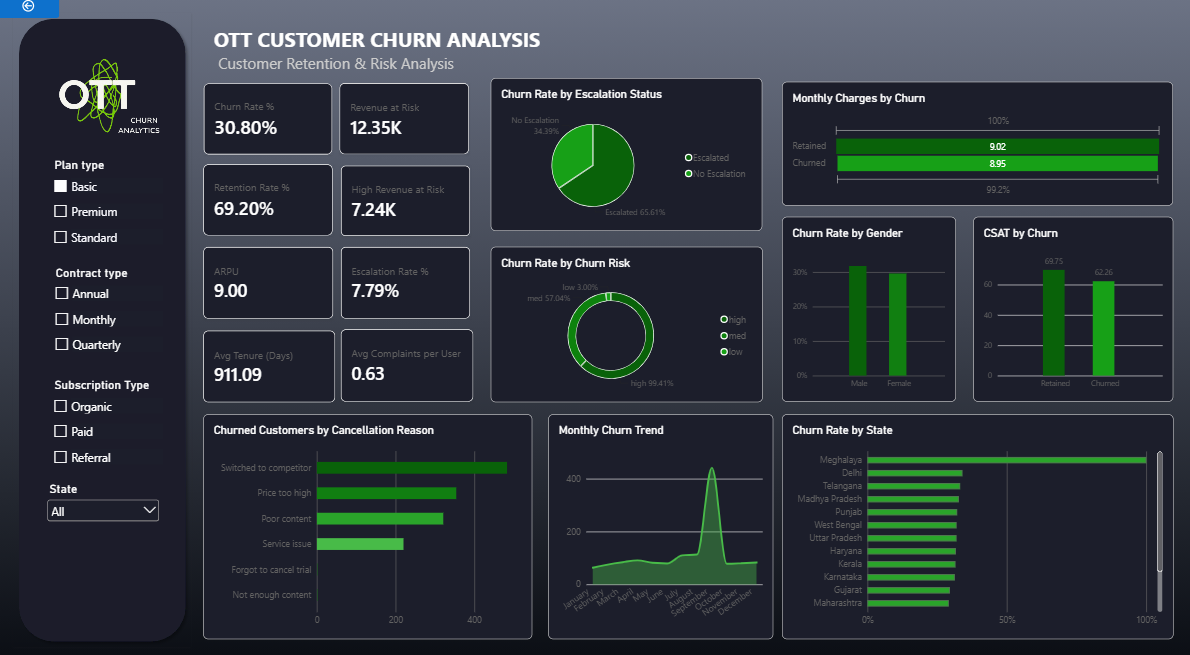

The dashboard page shown, as its layout file describes it:
{"tool":"powerbi","page":{"name":"Page 1","canvas":[1920,1080],"ordinal":0},"visuals":[{"type":"shape","box":[26.7,31.7,285,1015],"z":0},{"type":"cardVisual","fields":{"Data":["db_customer.Churn Rate %"]},"box":[330,144,207.5,115],"z":2000},{"type":"cardVisual","fields":{"Data":["db_customer.Avg Tenure (Days)"]},"box":[330,540,211.4,115.7],"z":3000},{"type":"cardVisual","fields":{"Data":["db_customer.ARPU"]},"box":[330,406,208.6,115.7],"z":4000},{"type":"cardVisual","fields":{"Data":["db_customer.Escalation Rate %"]},"box":[550,405.6,207.8,115.6],"z":5000},{"type":"cardVisual","fields":{"Data":["db_customer.Revenue at Risk"]},"box":[548.9,144.4,207.8,114.4],"z":6000},{"type":"cardVisual","title":"High Risk Revenue","fields":{"Data":["db_customer.High Risk Revenue at Risk"]},"box":[550,275.6,207.8,113.3],"z":7000},{"type":"cardVisual","fields":{"Data":["db_customer.Retention Rate %"]},"box":[330,274,207.8,114.4],"z":8000},{"type":"cardVisual","fields":{"Data":["db_customer.Avg Complaints per User"]},"box":[550,538.9,212.2,116.7],"z":9000},{"type":"clusteredBarChart","title":"Churn Rate by State","fields":{"Category":["db_customer.state"],"Y":["db_customer.Churn Rate %"]},"box":[1256,674,626,360],"z":12000},{"type":"clusteredBarChart","title":"Churned Customers by Cancellation Reason","fields":{"Category":["db_subscription.cancellation_reason"],"Y":["Sum(db_subscription.Churn Flag)"]},"box":[330,674,526,360],"z":13000},{"type":"clusteredColumnChart","title":"Churn Rate by Gender","fields":{"Category":["db_customer.gender"],"Y":["db_customer.Churn Rate %"]},"box":[1256,358,278,296],"z":14000},{"type":"funnel","title":"Monthly Charges by Churn","fields":{"Category":["db_subscription.Churn Status"],"Y":["Avg(db_subscription.monthly_charges)"]},"box":[1256.5,142.2,625.5,198.8],"z":15000},{"type":"clusteredColumnChart","title":"CSAT by Churn","fields":{"Category":["db_subscription.Churn Status"],"Y":["Avg(db_support.csat_score)"]},"box":[1562,358,320,296],"z":16000},{"type":"pieChart","title":"Churn Rate by Escalation Status","fields":{"Category":["db_support.Escalation Status"],"Y":["Avg(db_support.Customer Churn Flag)"]},"box":[790,136.7,434.4,244.4],"z":17000},{"type":"actionButton","box":[0,0,100,40],"z":18000},{"type":"donutChart","title":"Churn Rate by Churn Risk","fields":{"Category":["db_subscription.Churn Risk"],"Y":["db_customer.Churn Rate %"]},"box":[790,405.6,435.6,248.9],"z":19000},{"type":"areaChart","title":"Monthly Churn Trend","fields":{"Category":["db_subscription.cancellation_date.Variation.Date Hierarchy.Month"],"Y":["Sum(db_subscription.Churn Flag)"]},"box":[882,674,360,360],"z":20000},{"type":"textbox","box":[346,52,524,80],"z":21000},{"type":"textbox","box":[353.3,95,436.7,93.3],"z":22000},{"type":"slicer","fields":{"Values":["db_subscription.plan_type"]},"box":[83.3,263.3,181.7,148.3],"z":23000},{"type":"slicer","fields":{"Values":["db_subscription.contract_type"]},"box":[85,436.7,180,150],"z":24000},{"type":"slicer","fields":{"Values":["db_customer.state"]},"box":[76.7,781.7,188.3,150],"z":25000},{"type":"slicer","fields":{"Values":["db_subscription.Subscription Type Clean"]},"box":[83.3,615,181.7,150],"z":26000},{"type":"image","box":[16.7,20,295,288.3],"z":27000}]}

Visuals, with their boxes in screenshot pixels (x1, y1, x2, y2):
shape: (20,13,196,642)
cardVisual - db_customer.Churn Rate %: (207,83,336,154)
cardVisual - db_customer.Avg Tenure (Days): (207,328,338,400)
cardVisual - db_customer.ARPU: (207,245,337,317)
cardVisual - db_customer.Escalation Rate %: (344,245,472,316)
cardVisual - db_customer.Revenue at Risk: (343,83,472,154)
"High Risk Revenue" cardVisual: (344,164,472,235)
cardVisual - db_customer.Retention Rate %: (207,163,336,234)
cardVisual - db_customer.Avg Complaints per User: (344,327,475,400)
"Churn Rate by State" clusteredBarChart: (781,411,1168,634)
"Churned Customers by Cancellation Reason" clusteredBarChart: (207,411,533,634)
"Churn Rate by Gender" clusteredColumnChart: (781,215,953,399)
"Monthly Charges by Churn" funnel: (781,82,1168,205)
"CSAT by Churn" clusteredColumnChart: (970,215,1168,399)
"Churn Rate by Escalation Status" pieChart: (492,78,761,230)
actionButton: (3,0,65,19)
"Churn Rate by Churn Risk" donutChart: (492,245,762,399)
"Monthly Churn Trend" areaChart: (549,411,772,634)
textbox: (217,26,542,76)
textbox: (222,53,492,110)
slicer - db_subscription.plan_type: (55,157,167,249)
slicer - db_subscription.contract_type: (56,264,167,357)
slicer - db_customer.state: (51,478,167,571)
slicer - db_subscription.Subscription Type Clean: (55,374,167,467)
image: (13,6,196,185)
